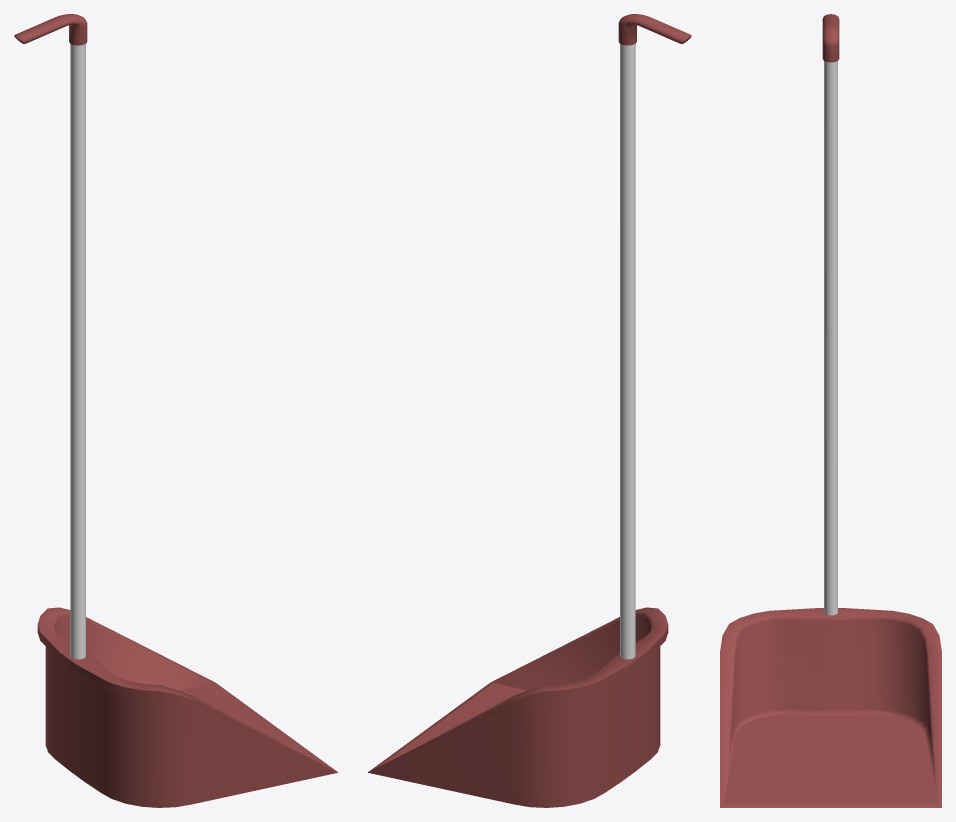
File: Dustpan_SM.FBX
The picture shows the model from 3 angles, left to right: view 1: azimuth 30°, elevation 25°; view 2: azimuth 150°, elevation 25°; view 3: azimuth 270°, elevation 25°; orthographic projection. The views are drawn at different scales.
Parts seen in each view (by area): view 1: Dustpan_SM; view 2: Dustpan_SM; view 3: Dustpan_SM.
Boxes of the visible parts, box(x1,y1,x2,y2) form: Dustpan_SM: box(14, 14, 337, 807); Dustpan_SM: box(368, 14, 691, 807); Dustpan_SM: box(720, 14, 941, 807).
Bounding box in the file's own units: 61.15 × 50 × 171.
